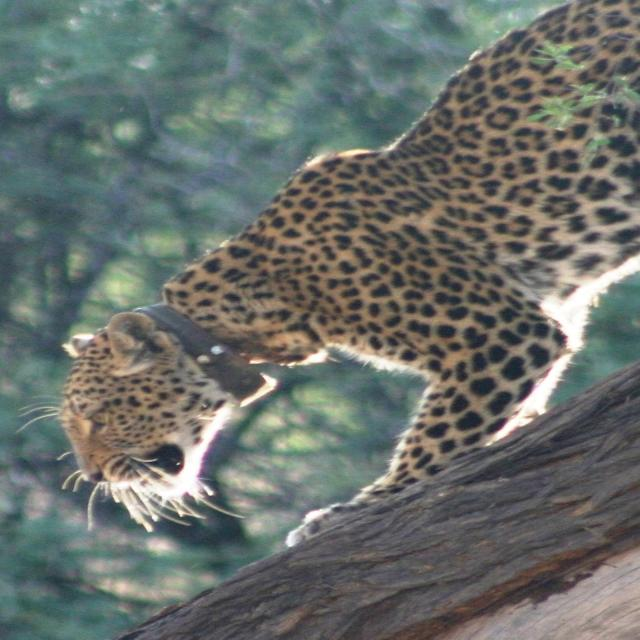Leopard: (48, 1, 640, 594)
